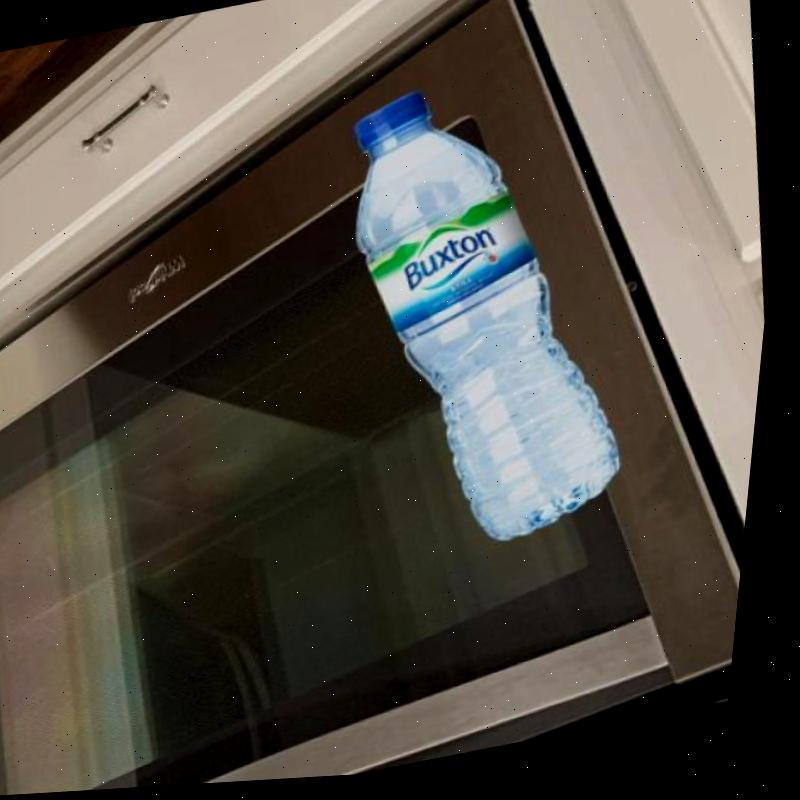botella: (317, 60, 676, 576)
